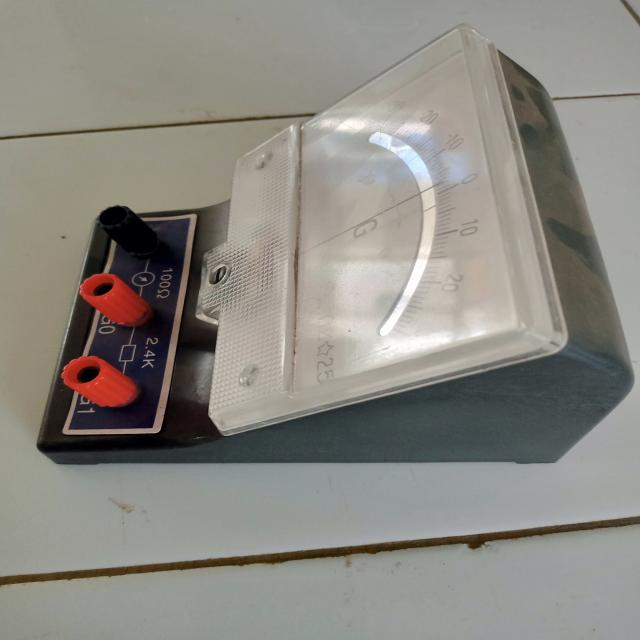Galvanometer: (24, 31, 637, 474)
